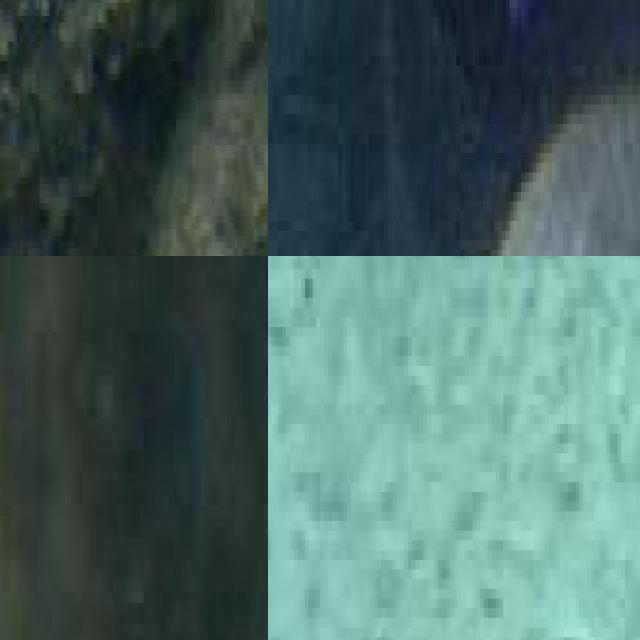fish: (0, 256, 268, 640), (0, 0, 268, 256)
